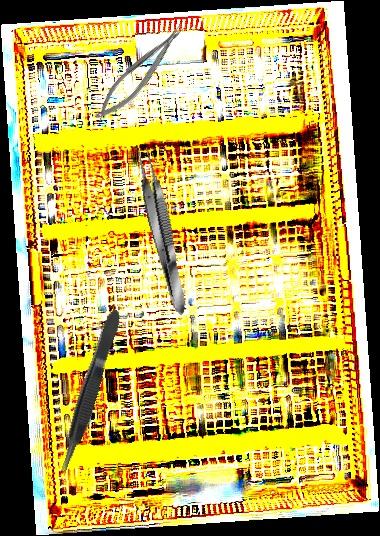Needle Holder: (86, 18, 196, 128)
Tissue Forceps: (51, 307, 128, 478), (130, 144, 193, 319)
